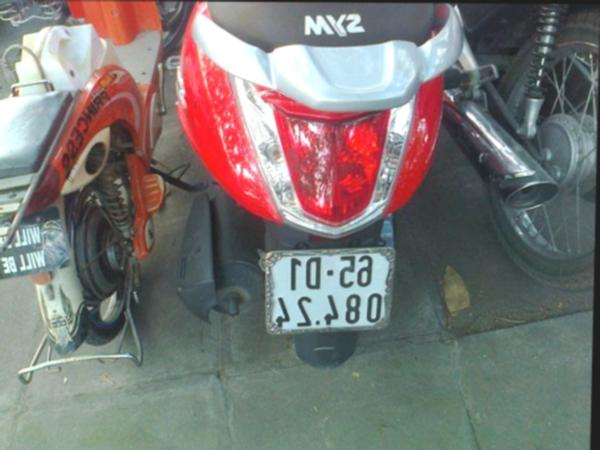License_Plate: (270, 249, 391, 331)
